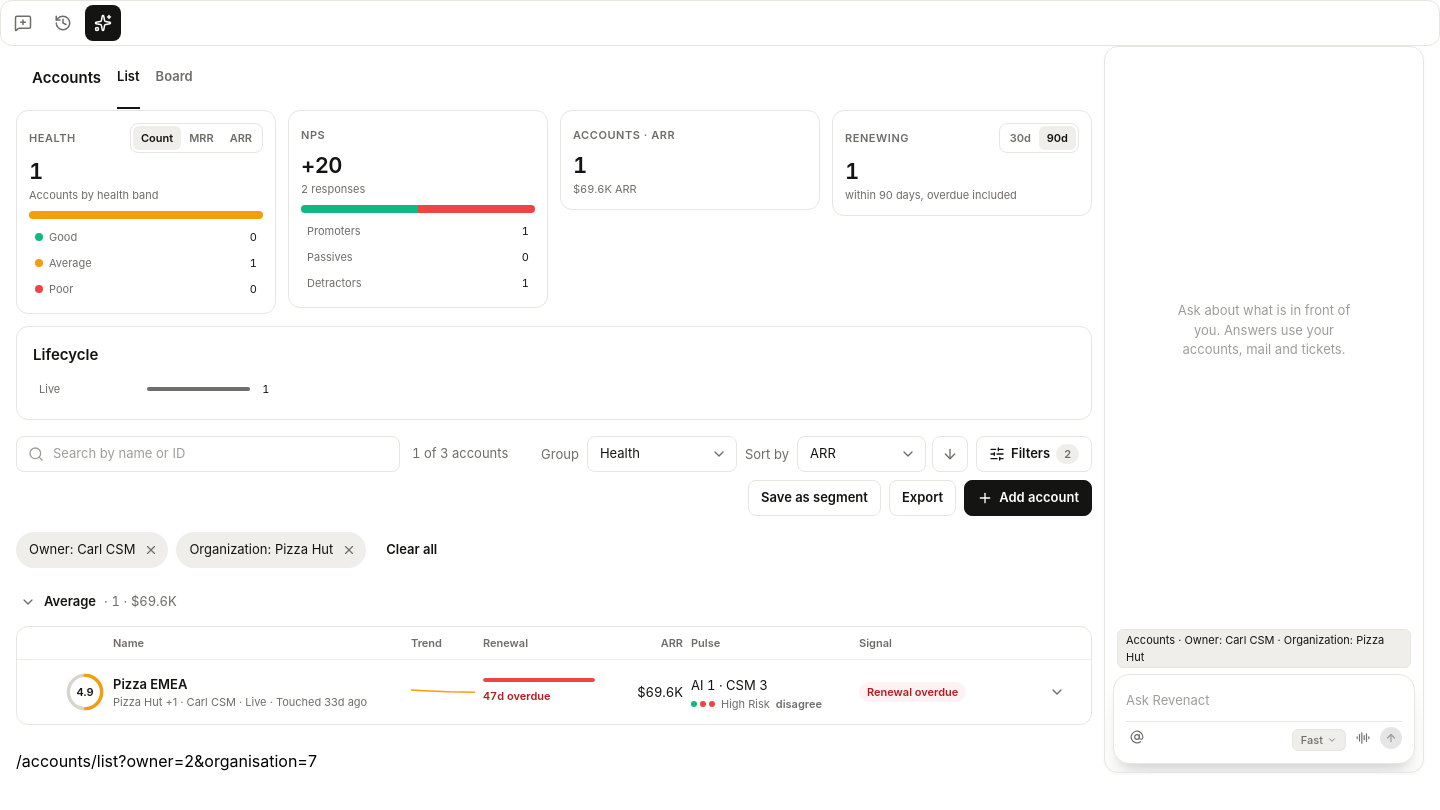
it: Ask Revenact on the Accounts List and Board › moves the chip with the filters
Expected: the text "Accounts · Owner: Carl CSM · Organization: Pizza Hut" is shown, [1117,629,1411,668]
What coordinates should you click on to do the following:
click the button named "Remove filter: Owner: Carl CSM"
I would click on:
 (151, 550)
Its box is [139,538,163,562].
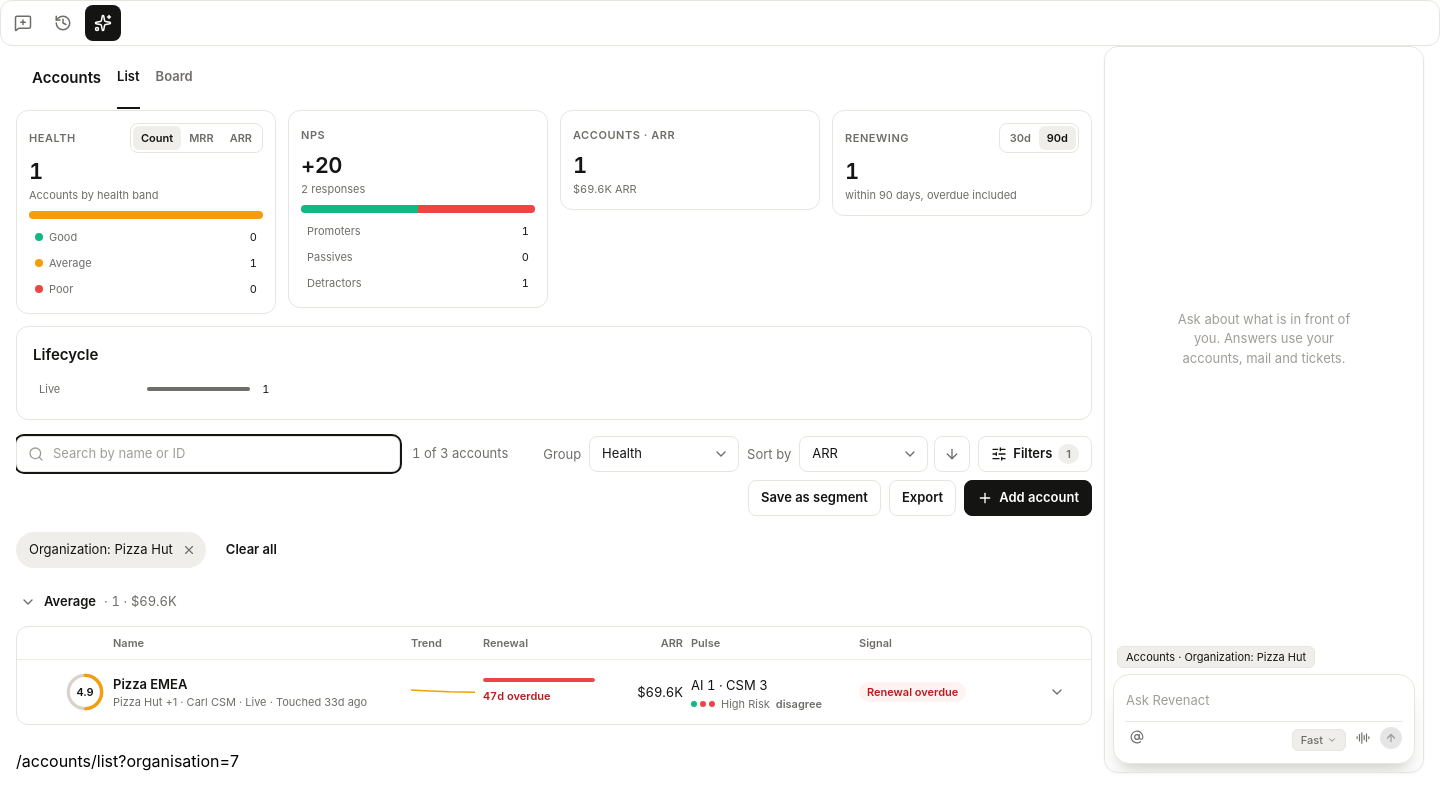
Result: the text "Accounts · Organization: Pizza Hut" is shown at [1117,646,1315,668]
